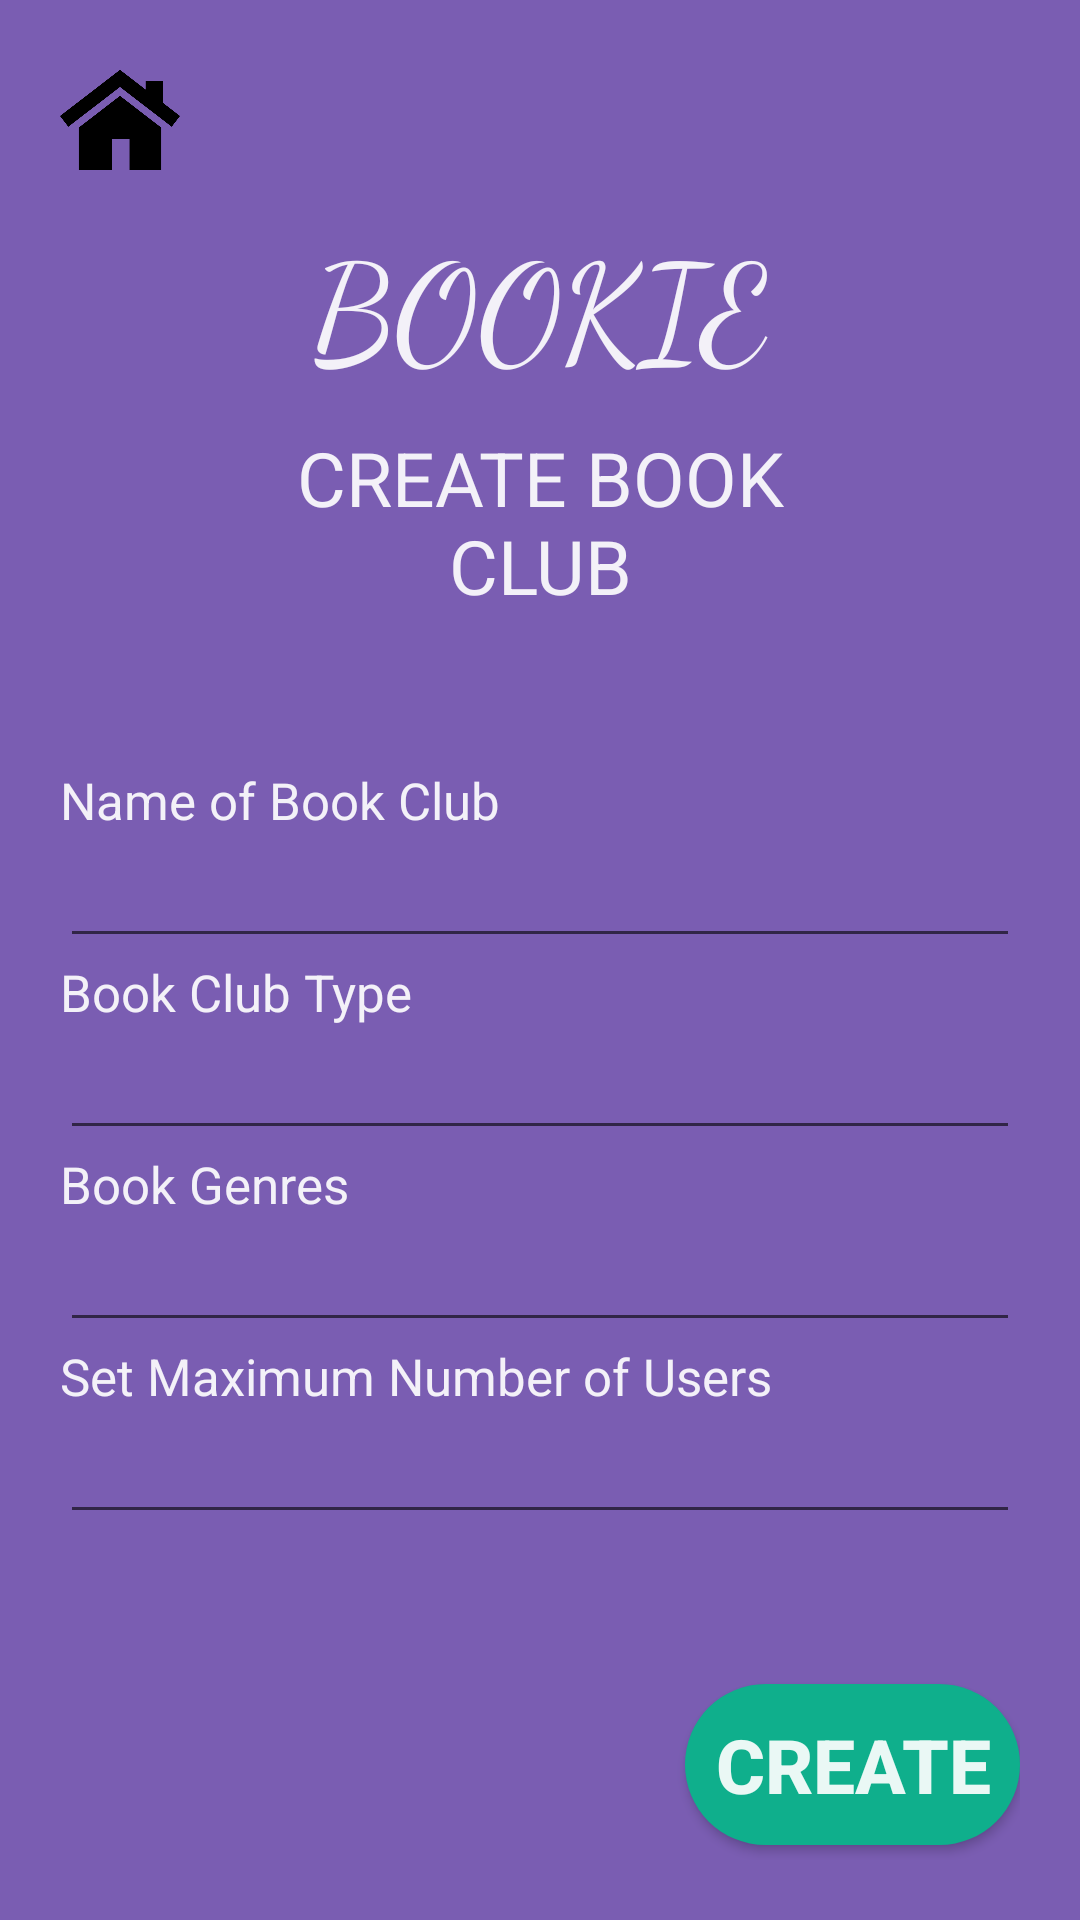

Locate icon controls on the screen. Image size 1080 × 1920, boxes as (x1, y1, x2, y2).
home: (60, 70, 180, 170)
